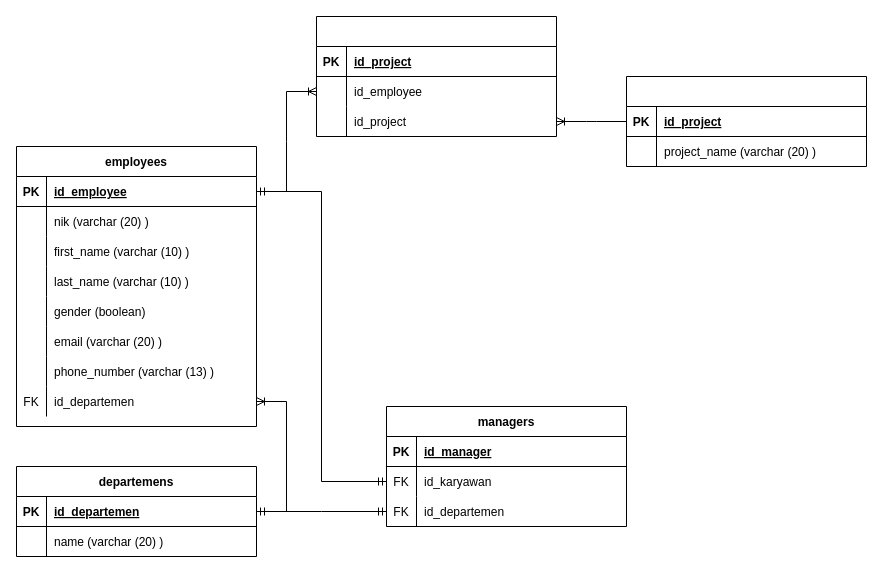
Image size: 883x573. Some labels were removed from this diagram. Here are the shapes that lost their labels. From the top down, the box of each, then its label:
(316, 16, 556, 136): employees_projects
(626, 76, 866, 166): projects
